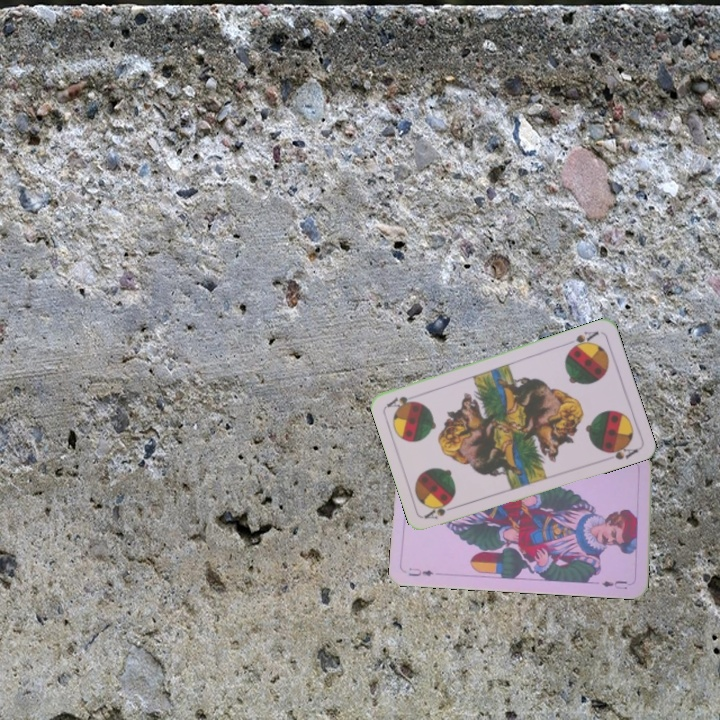EU: (404, 564, 435, 579)
SA: (565, 327, 601, 353), (421, 499, 461, 522)
